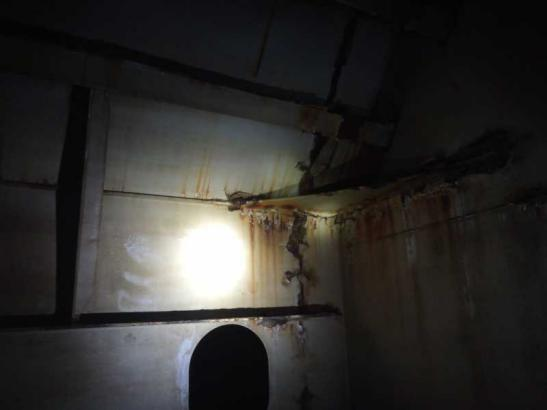corrosion: (451, 228, 492, 400), (395, 232, 434, 399), (236, 214, 289, 303), (376, 191, 458, 230), (285, 201, 312, 304), (305, 206, 397, 234), (180, 151, 225, 199), (254, 14, 271, 80)
